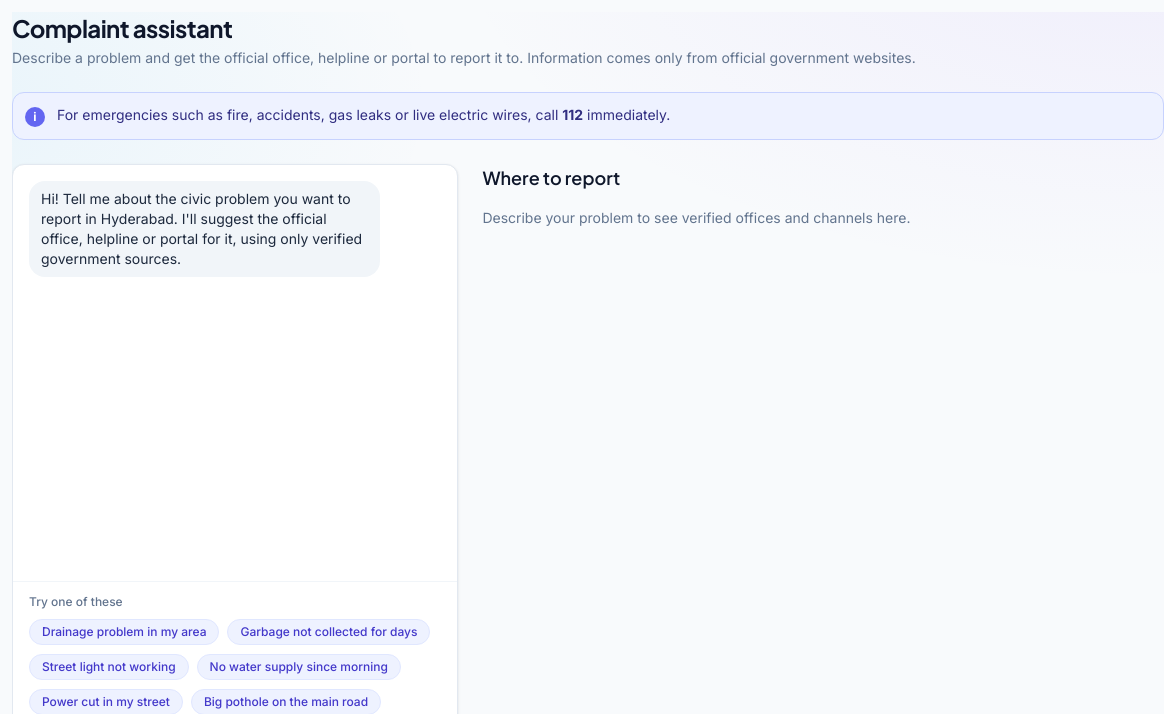
shows an error when the assistant cannot be reached
Click the button "Street light not working" at (109, 667), box top-left (29, 654), bottom-right (189, 680)
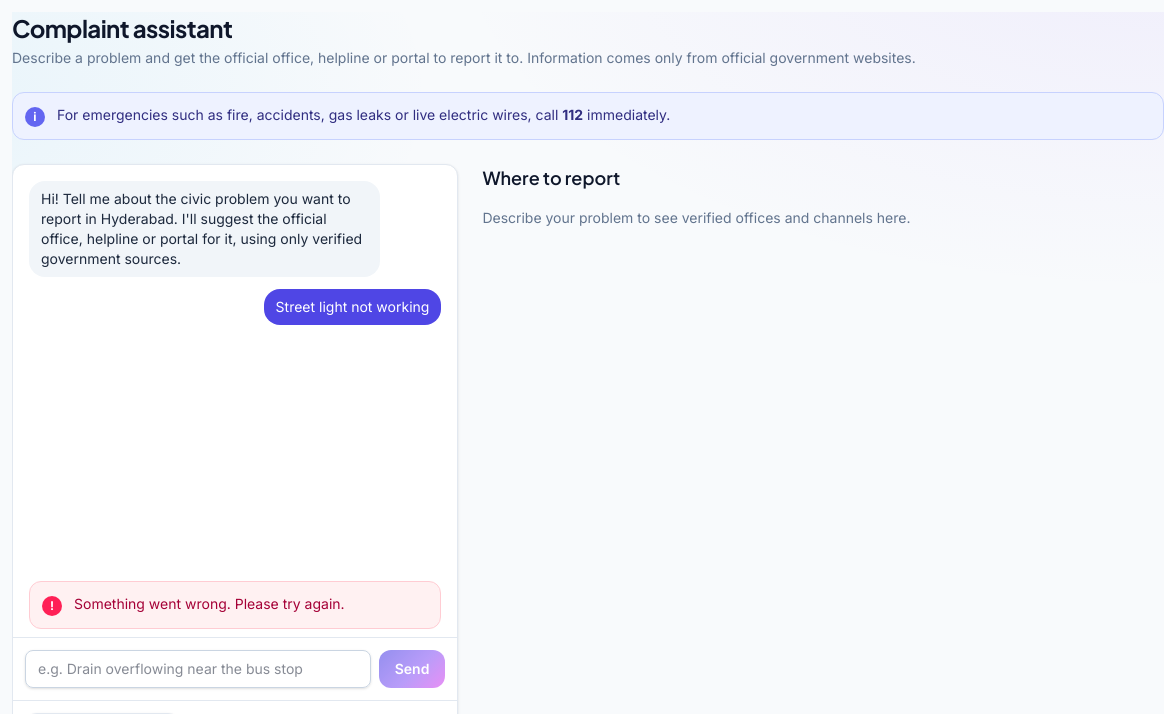
Expected: the message "! Something went wrong. Please try again." is shown, top-left (29, 581), bottom-right (441, 629)
